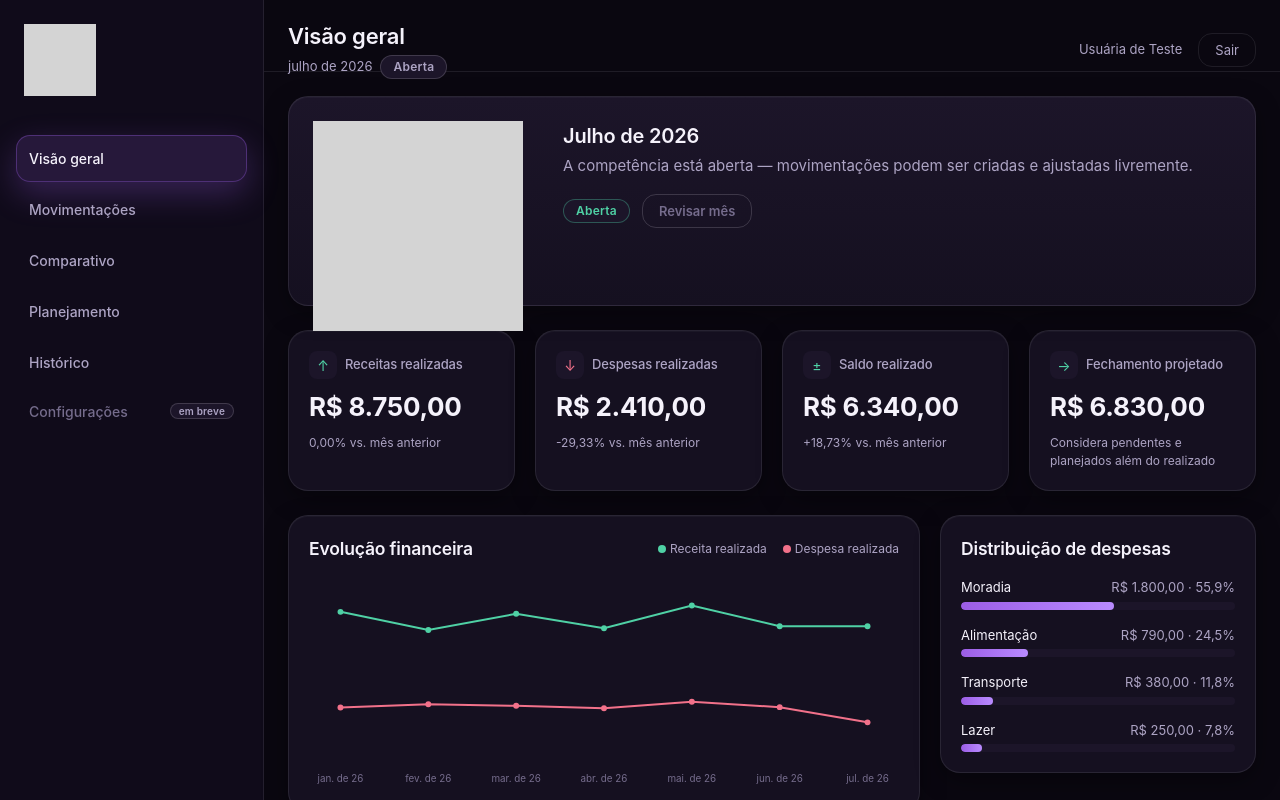
Scenario: App › navega para /movimentacoes ao clicar em "Movimentações", atualizando aria-current e o título do cabeçalho
Click the link "Movimentações" at [82, 209], box left=29, top=200, right=136, bottom=218
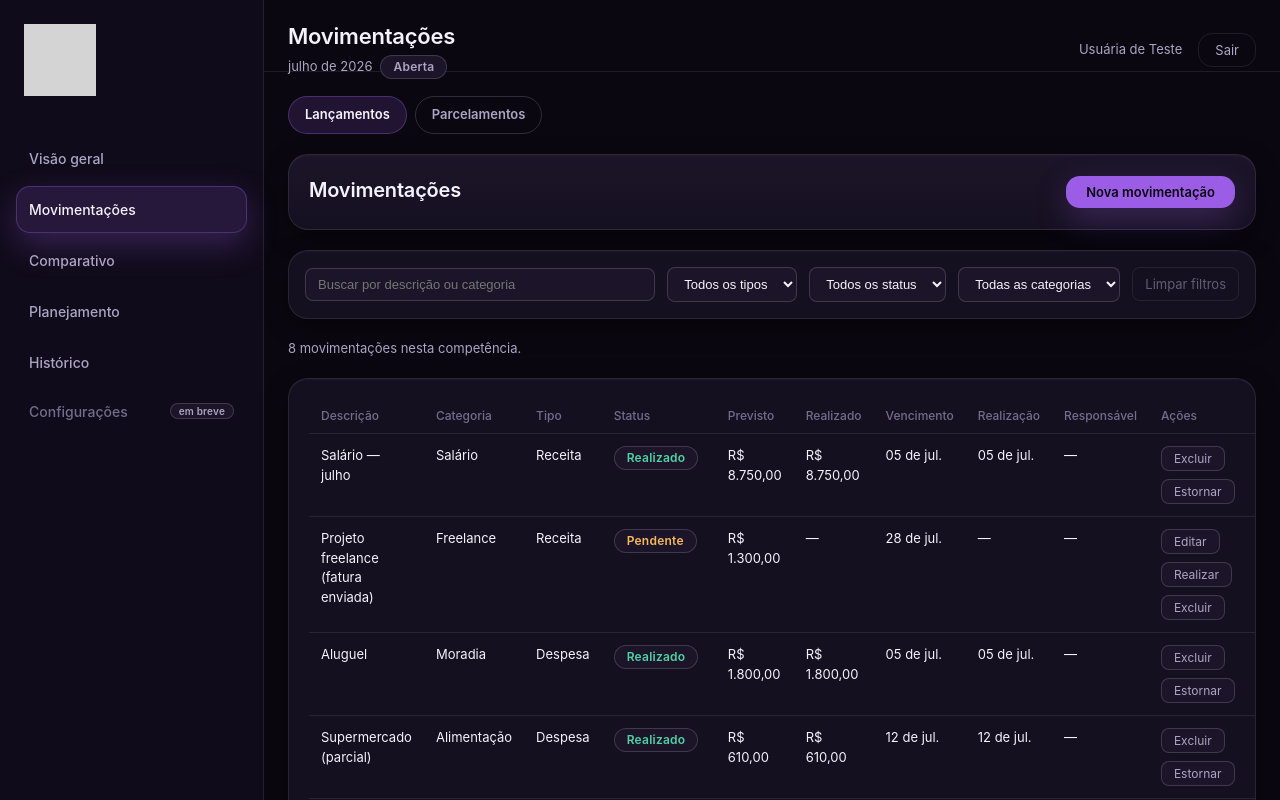
Now the heading "Movimentações" in the row of "Usuária de Teste" is shown, box left=288, top=20, right=455, bottom=53
